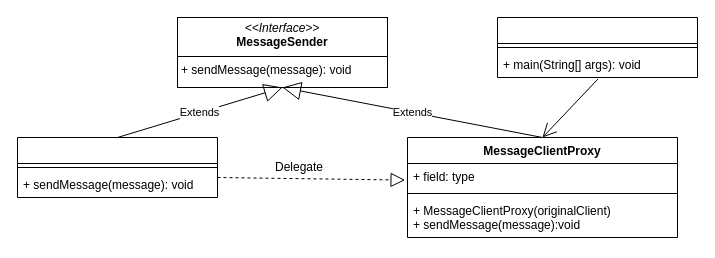
Image size: 715x258. Some labels were removed from this diagram. Each missing label, with the box of its shape:
GuasappProgramLauncher: (496, 16, 698, 78)
MessagingClient: (16, 136, 218, 198)
